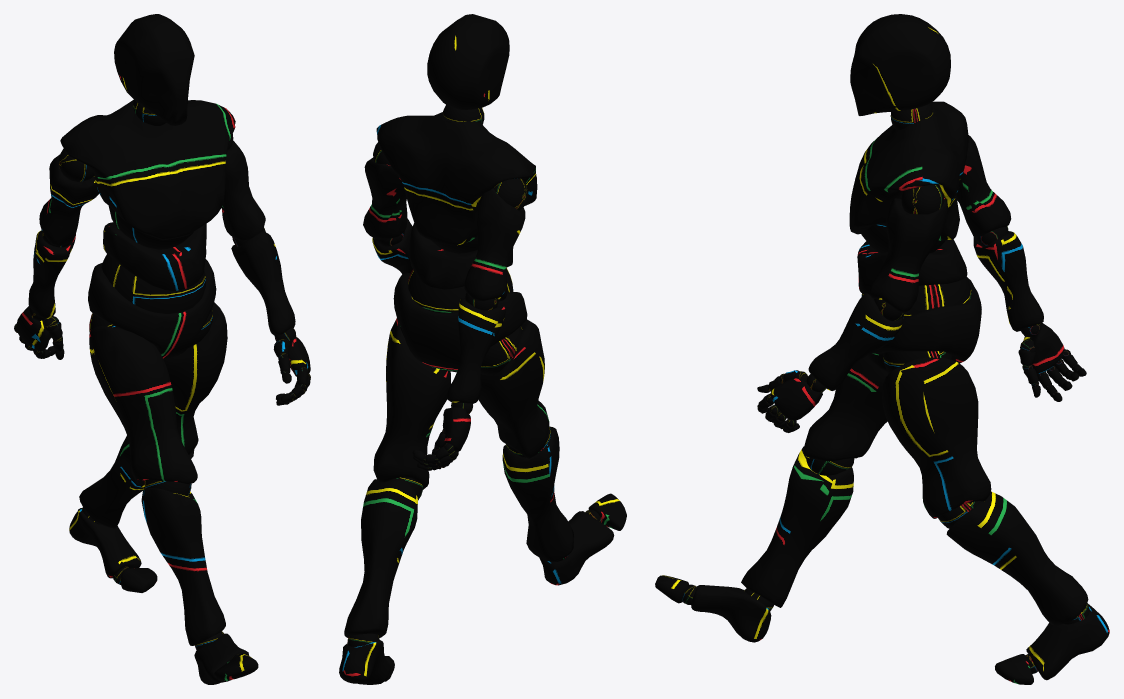
File: y-bot-origin_000006.obj
3 views of the same model, side by side, from view 1: azimuth 30°, elevation 25°; view 2: azimuth 150°, elevation 25°; view 3: azimuth 270°, elevation 25° (orthographic). The views are drawn at different scales.
Visible parts, largest first — view 1: Alpha_Surface_Alpha_SurfaceMesh, Alpha_Joints_Alpha_JointsMesh; view 2: Alpha_Surface_Alpha_SurfaceMesh, Alpha_Joints_Alpha_JointsMesh; view 3: Alpha_Surface_Alpha_SurfaceMesh, Alpha_Joints_Alpha_JointsMesh.
Part boxes in pixels (x1,y1,x2,y2): Alpha_Surface_Alpha_SurfaceMesh: (16,14,310,684); Alpha_Joints_Alpha_JointsMesh: (14,100,310,658); Alpha_Surface_Alpha_SurfaceMesh: (339,14,626,684); Alpha_Joints_Alpha_JointsMesh: (347,104,601,646); Alpha_Surface_Alpha_SurfaceMesh: (655,14,1109,684); Alpha_Joints_Alpha_JointsMesh: (682,103,1089,673).
Bounding box in the file's own units: 0.5376 × 1.74 × 1.12.
